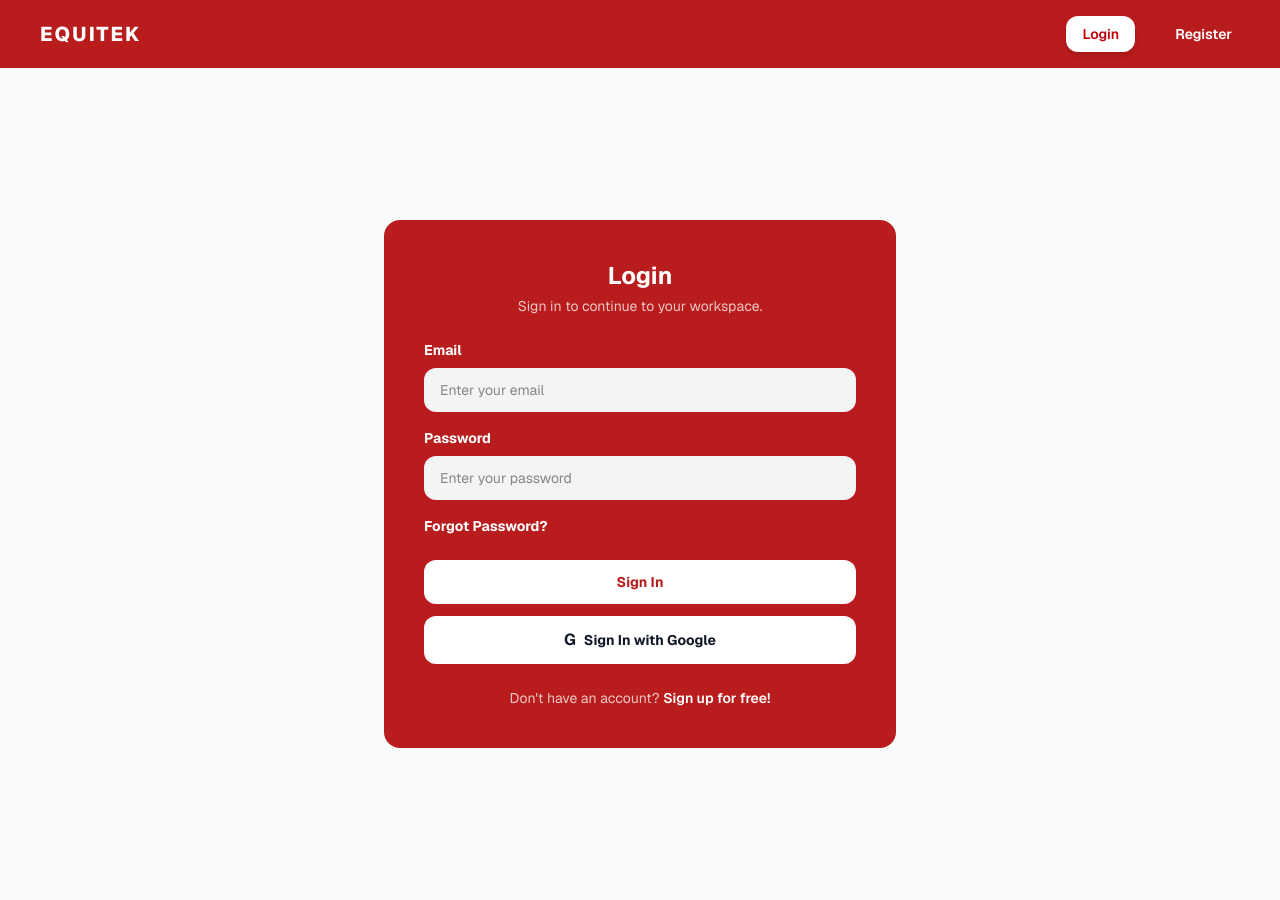
Scenario: LoginPage › negative › shows English error when Google loginWithGoogle returns Indonesian token error
Click the button "G Sign In with Google" at (640, 640), box top-left (424, 616), bottom-right (856, 664)
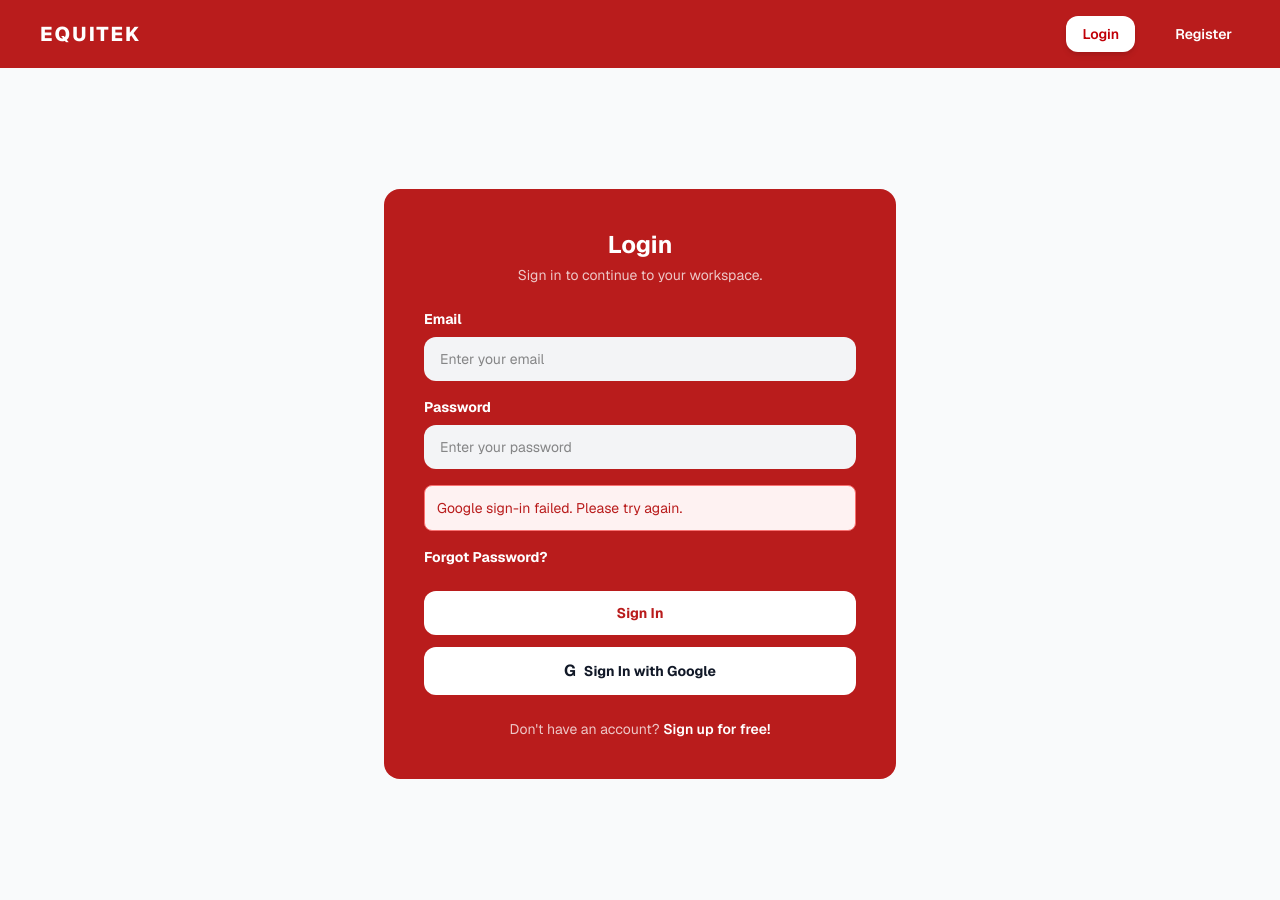
Result: the message reads "Google sign-in failed. Please try again." at top-left (437, 499), bottom-right (682, 517)
